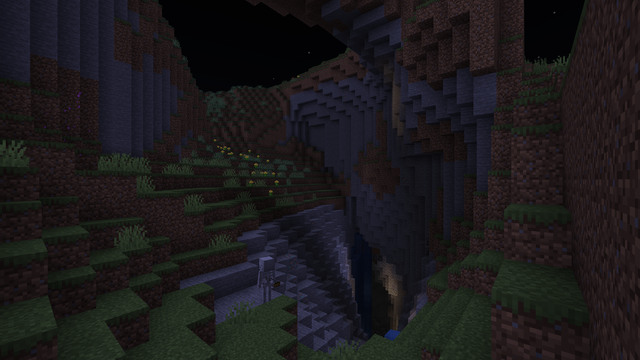squelettes: (257, 256, 275, 306)
